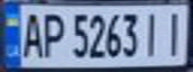2: (87, 10, 106, 60)
3: (121, 9, 142, 58)
5: (66, 10, 90, 60)
6: (103, 10, 127, 58)
A: (15, 8, 45, 59)
I: (160, 7, 190, 57), (139, 8, 166, 57)
P: (39, 9, 66, 60)
